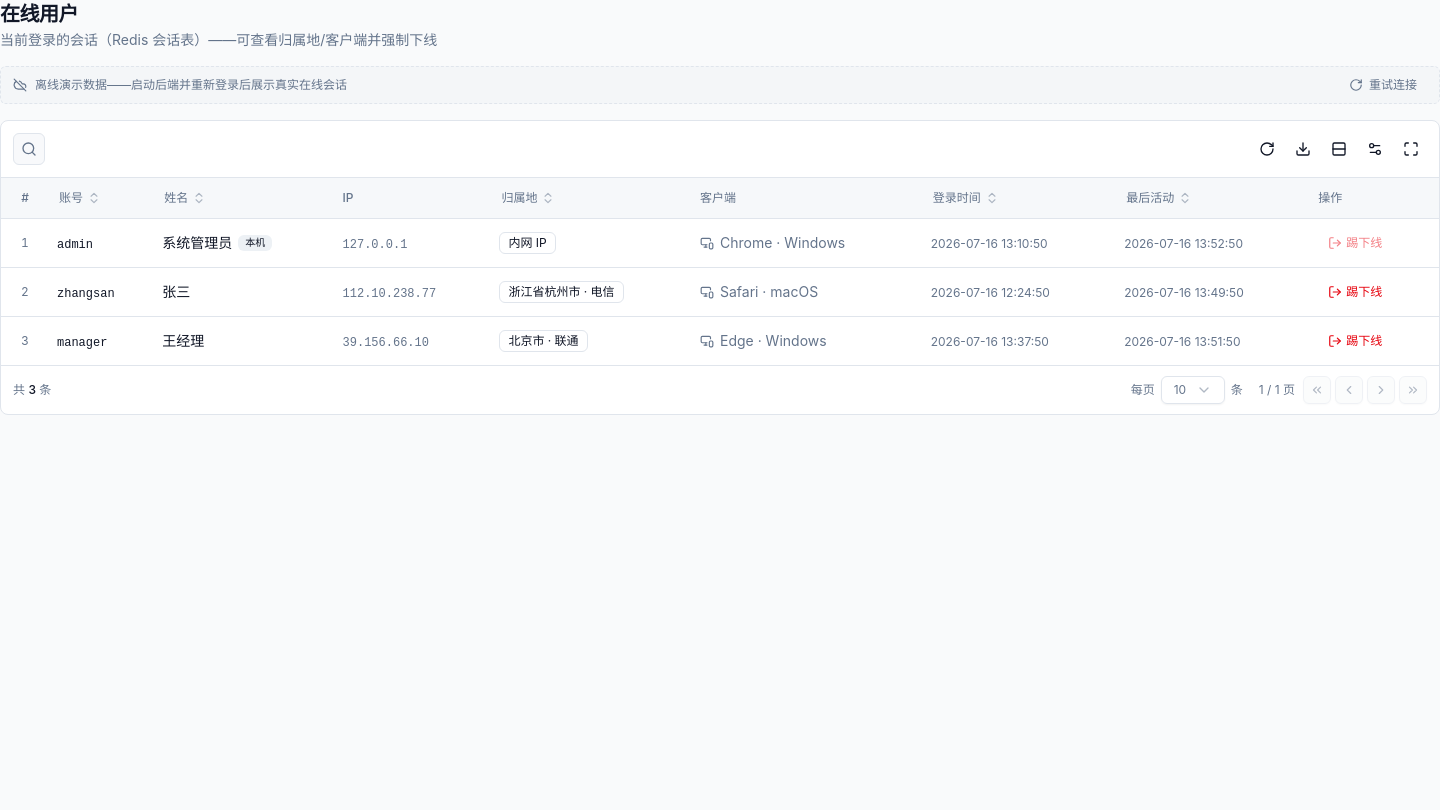
Test: 在线用户 › 踢下线二次确认：非 current 行 → 弹窗 → 确认关闭
expect the text "张三" is shown: met, box [162,282,190,302]
Click the button "踢下线" in the row of "zhangsan".
click(1355, 292)  # box [1318,278,1392,306]
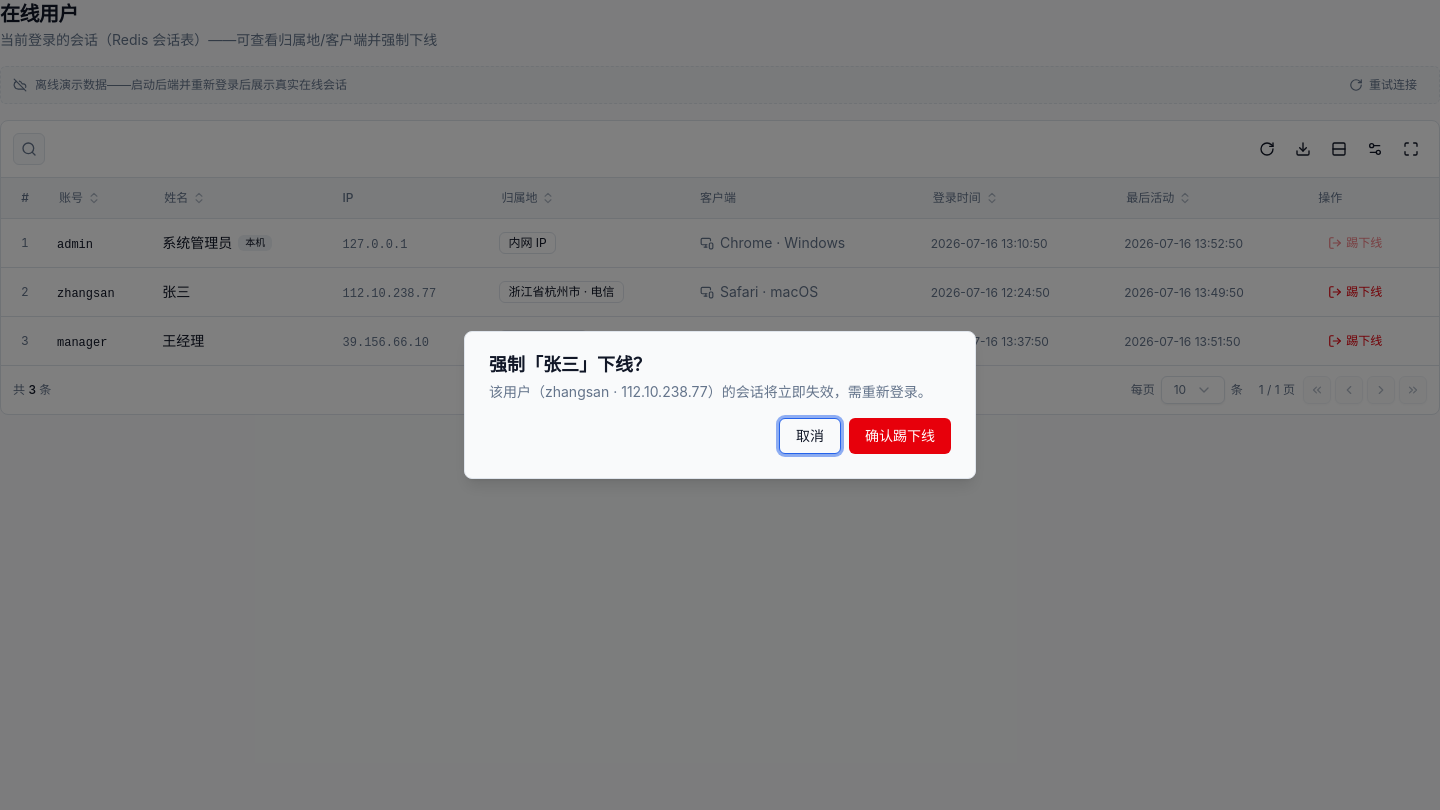
expect the heading "强制「张三」下线？" is shown: met, box [489,354,651,375]
Click the button "确认踢下线".
click(900, 436)  # box [849,418,951,454]
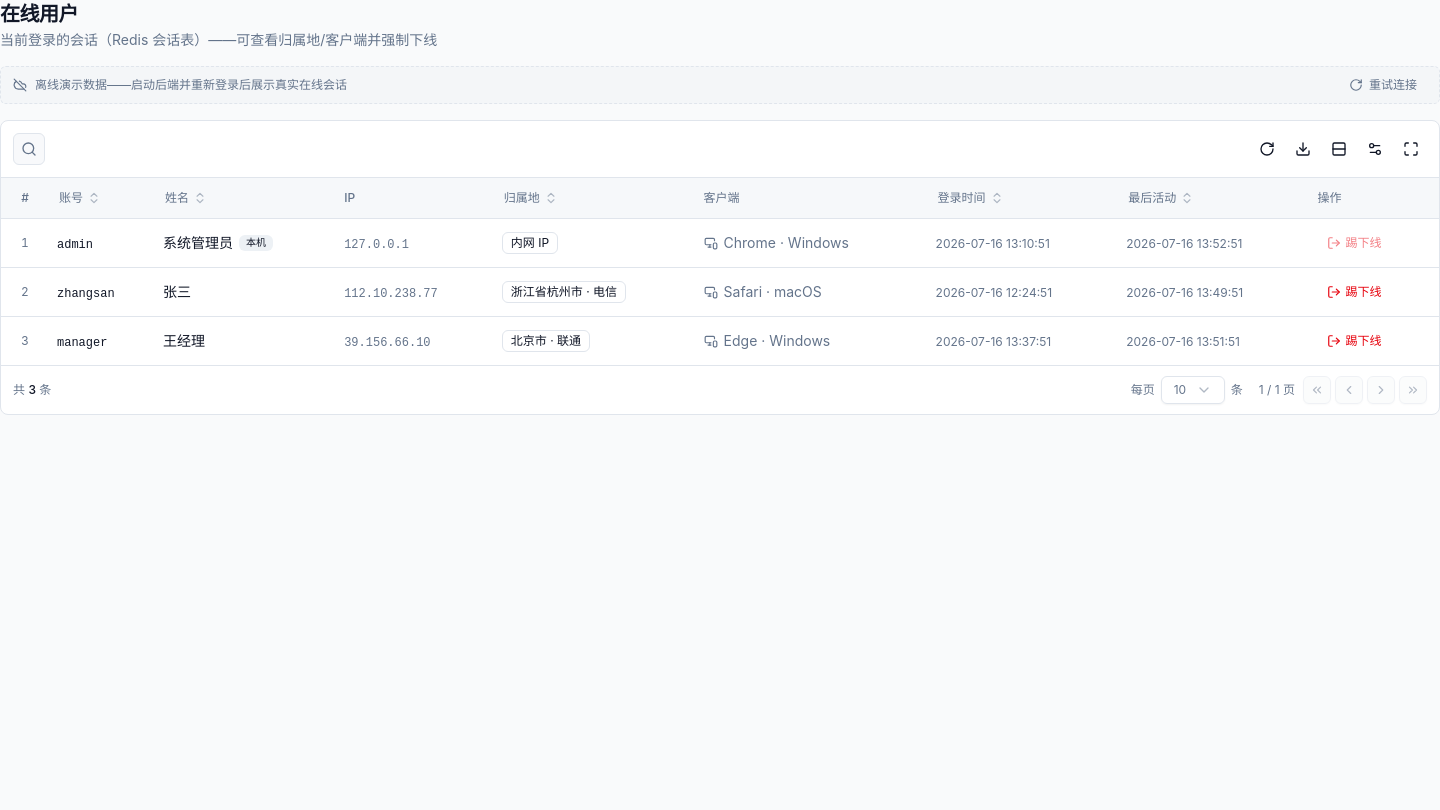
expect the heading "强制「张三」下线？" is gone: met
